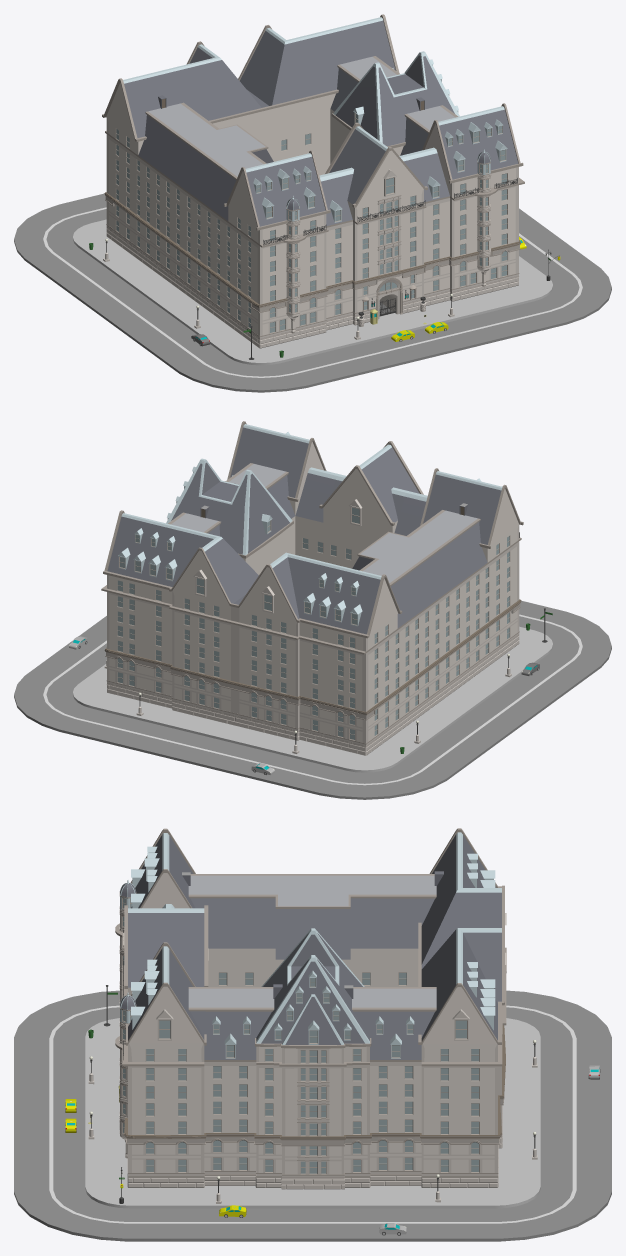
3 renders of one model, top to bottom at view 1: azimuth 30°, elevation 25°; view 2: azimuth 150°, elevation 25°; view 3: azimuth 270°, elevation 25°, orthographic. The views are drawn at different scales.
Parts seen in each view (by area): view 1: Street2, polySurface2, Roof_05, SideWalk1, polySurface12, P1_Walls, Roof_04, polySurface7, Roof_02, Roof_03, Roof_01, polySurface9 (+12 smaller); view 2: Street2, polySurface2, Roof_05, SideWalk1, polySurface12, P1_Walls, polySurface7, Roof_04, Roof_02, Roof_01, Roof_03, Base_Brick_2 (+11 smaller); view 3: Street2, polySurface2, SideWalk1, polySurface12, Roof_05, polySurface9, P1_Walls, Roof_04, Roof_01, polySurface7, Roof_03, Border_Face (+8 smaller).
Part boxes in pixels (x1,y1,x2,y2): Street2: [14, 193, 611, 392]; polySurface2: [106, 110, 518, 304]; Roof_05: [102, 14, 399, 141]; SideWalk1: [73, 219, 552, 365]; polySurface12: [138, 102, 273, 220]; P1_Walls: [106, 172, 518, 335]; Roof_04: [333, 51, 459, 146]; polySurface7: [106, 93, 518, 244]; Roof_02: [228, 153, 325, 226]; Roof_03: [424, 106, 518, 180]; Roof_01: [329, 126, 423, 205]; polySurface9: [330, 56, 458, 155]; Street2: [14, 600, 611, 799]; polySurface2: [107, 517, 519, 711]; Roof_05: [103, 510, 402, 638]; SideWalk1: [73, 626, 552, 772]; polySurface12: [352, 510, 487, 628]; P1_Walls: [107, 609, 519, 743]; polySurface7: [107, 496, 519, 651]; Roof_04: [166, 458, 292, 555]; Roof_02: [423, 471, 518, 545]; Roof_01: [323, 444, 419, 523]; Roof_03: [230, 424, 323, 498]; Base_Brick_2: [107, 640, 519, 755]; Street2: [14, 990, 611, 1241]; polySurface2: [128, 950, 501, 1136]; SideWalk1: [85, 1018, 540, 1208]; polySurface12: [188, 874, 436, 959]; Roof_05: [418, 828, 504, 1044]; polySurface9: [188, 987, 436, 1059]; P1_Walls: [128, 1105, 501, 1174]; Roof_04: [256, 928, 369, 1044]; Roof_01: [128, 908, 204, 987]; polySurface7: [128, 987, 497, 1063]; Roof_03: [128, 946, 204, 1043]; Border_Face: [126, 1098, 504, 1146].
Size of the model in its own units: 94.14 by 39.81 by 95.67.
